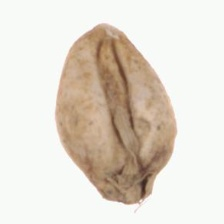L1: (101, 171, 160, 206), (81, 23, 129, 43)
L2: (54, 22, 178, 205)
